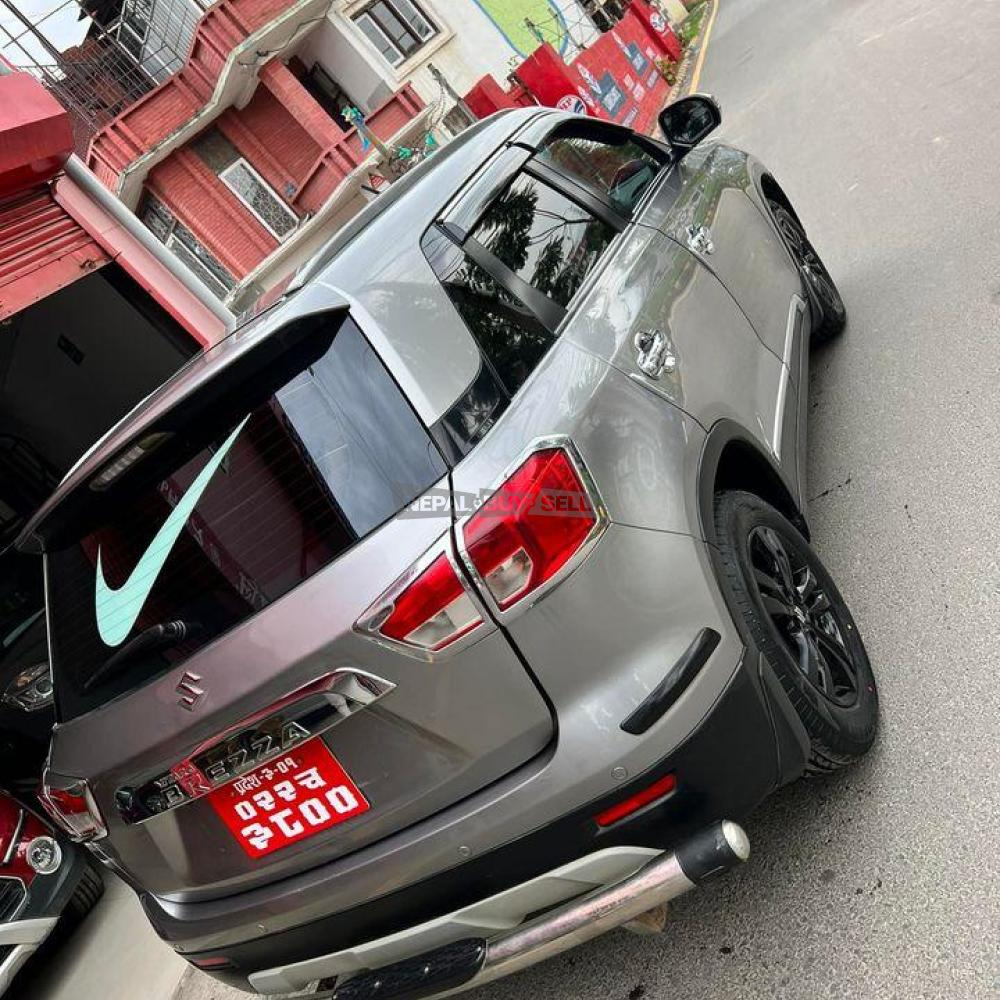number plate: (196, 749, 376, 863)
